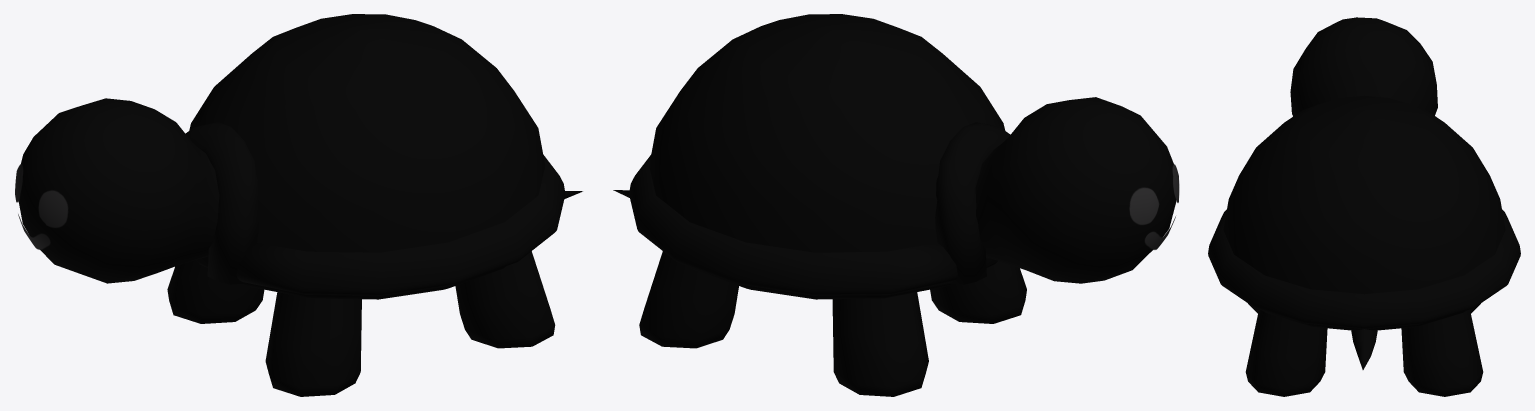
The model's file is prop_turtle.glb.
3 renders of one model, left to right at view 1: azimuth 30°, elevation 25°; view 2: azimuth 150°, elevation 25°; view 3: azimuth 270°, elevation 25°, orthographic. The views are drawn at different scales.
Parts seen in each view (by area): view 1: shell_0012, haed, shell_002, hand, foot, shell, face_004, under_shell; view 2: shell_0012, haed, shell_002, hand, foot, shell, face_004, under_shell; view 3: shell_0012, shell_002, foot, haed, turtle_tail, under_shell.
Part boxes in pixels (x1,y1,x2,y2): shell_0012: (189,14,545,252); haed: (18,98,219,283); shell_002: (236,155,565,295); hand: (167,260,361,396); foot: (455,251,555,348); shell: (185,122,259,284); face_004: (15,164,68,249); under_shell: (196,256,505,299); shell_0012: (649,14,1005,252); haed: (975,97,1176,283); shell_002: (629,154,957,295); hand: (832,261,1026,396); foot: (639,251,738,348); shell: (935,122,1010,284); face_004: (1129,164,1179,249); under_shell: (689,257,997,299); shell_0012: (1223,95,1505,294); shell_002: (1208,209,1520,328); foot: (1245,309,1483,396); haed: (1290,17,1437,116); turtle_tail: (1351,329,1377,369); under_shell: (1263,311,1465,330).
Bounding box in the file's own units: 2.3 × 1.15 × 1.39.
Materials: 2 (1 with a texture image).
